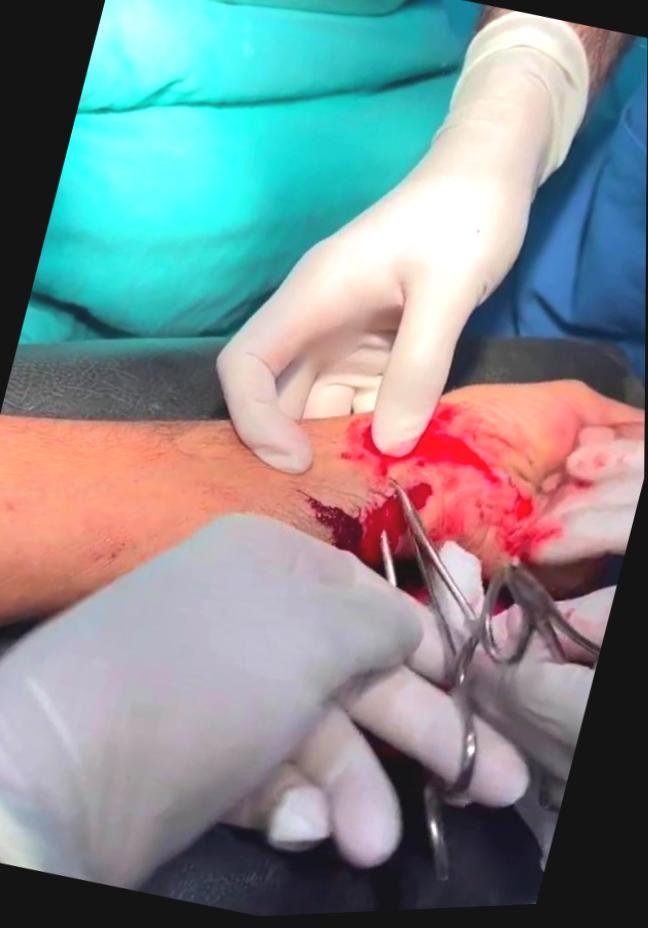Fire: (301, 405, 560, 620)
